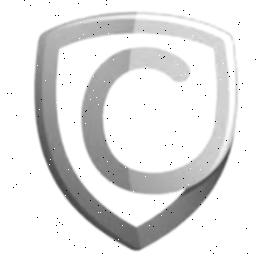c: (78, 44, 192, 198)
